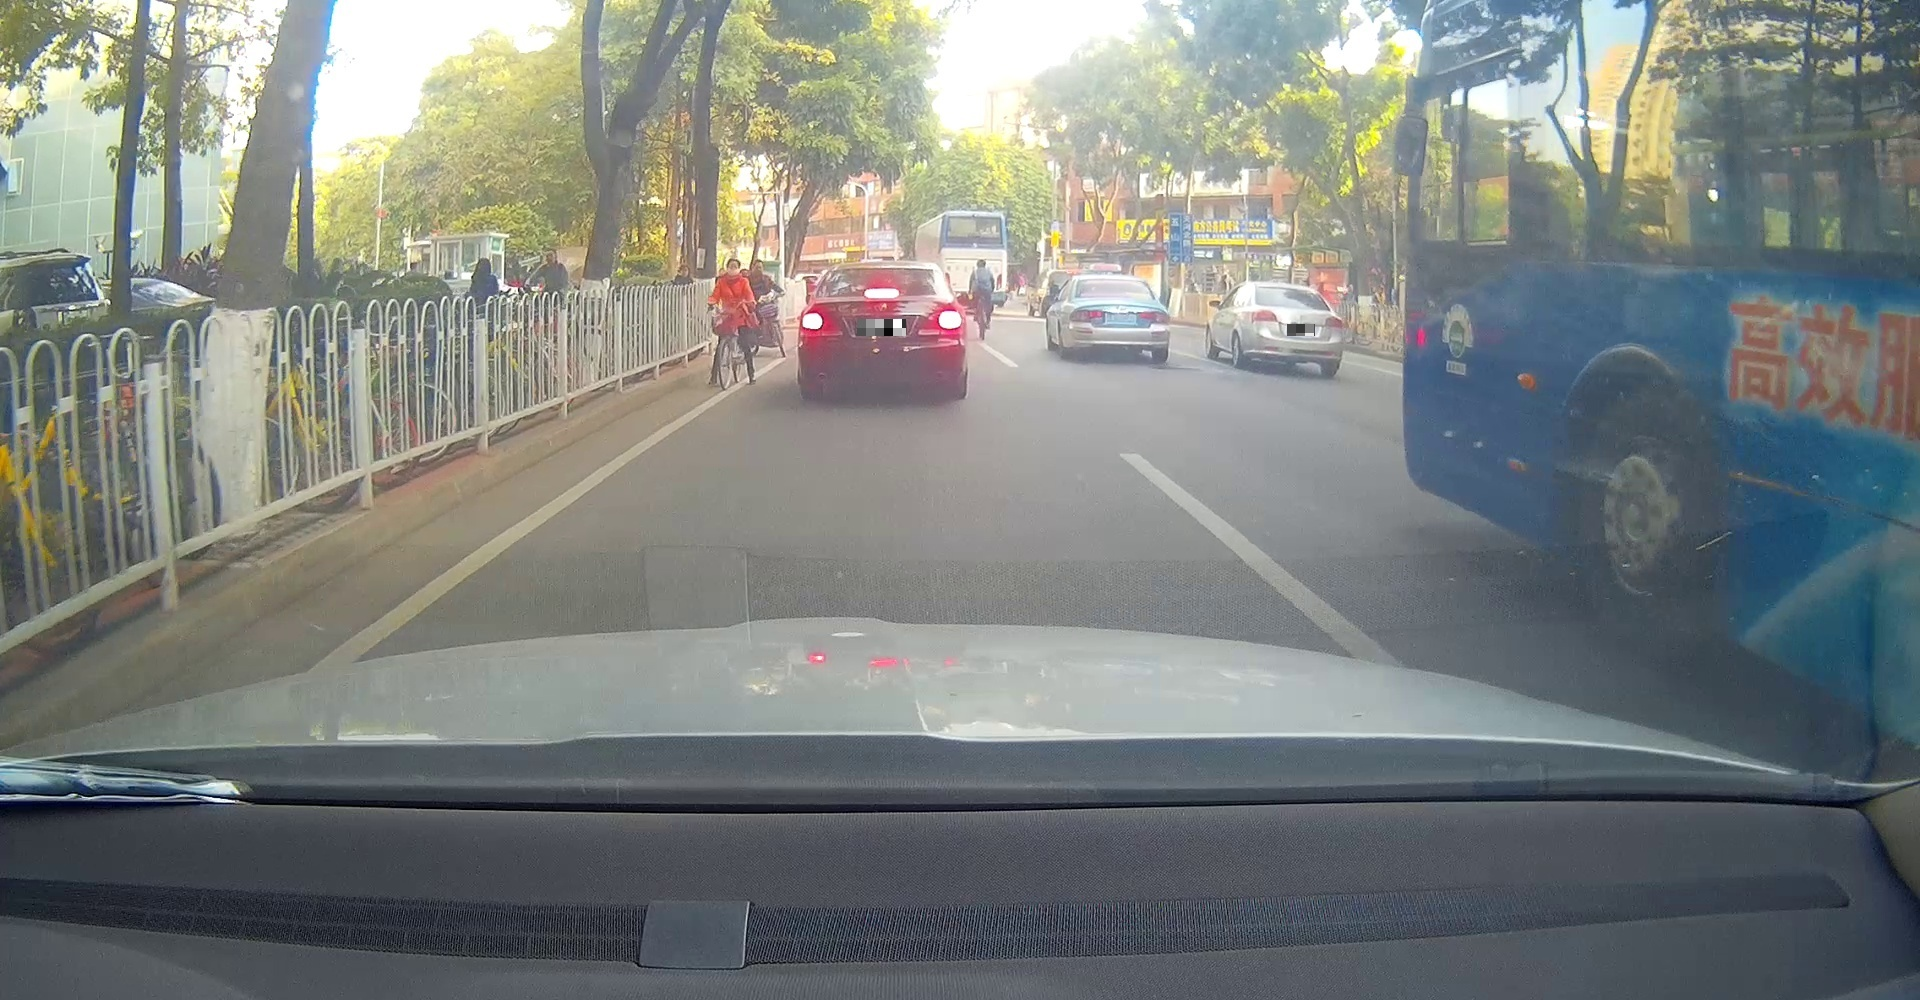L_light: (799, 305, 839, 336), (1069, 308, 1103, 322), (1250, 308, 1277, 324)
R_light: (916, 305, 968, 338), (1138, 308, 1170, 325), (1326, 315, 1343, 327)
T_light: (863, 288, 899, 299), (1103, 279, 1124, 284), (1281, 288, 1298, 293)
day-brake: (797, 261, 968, 401)
day-no: (1247, 280, 1345, 377), (1065, 275, 1170, 360)
plate_1: (857, 319, 905, 336)
plate_2: (1288, 324, 1316, 336)
